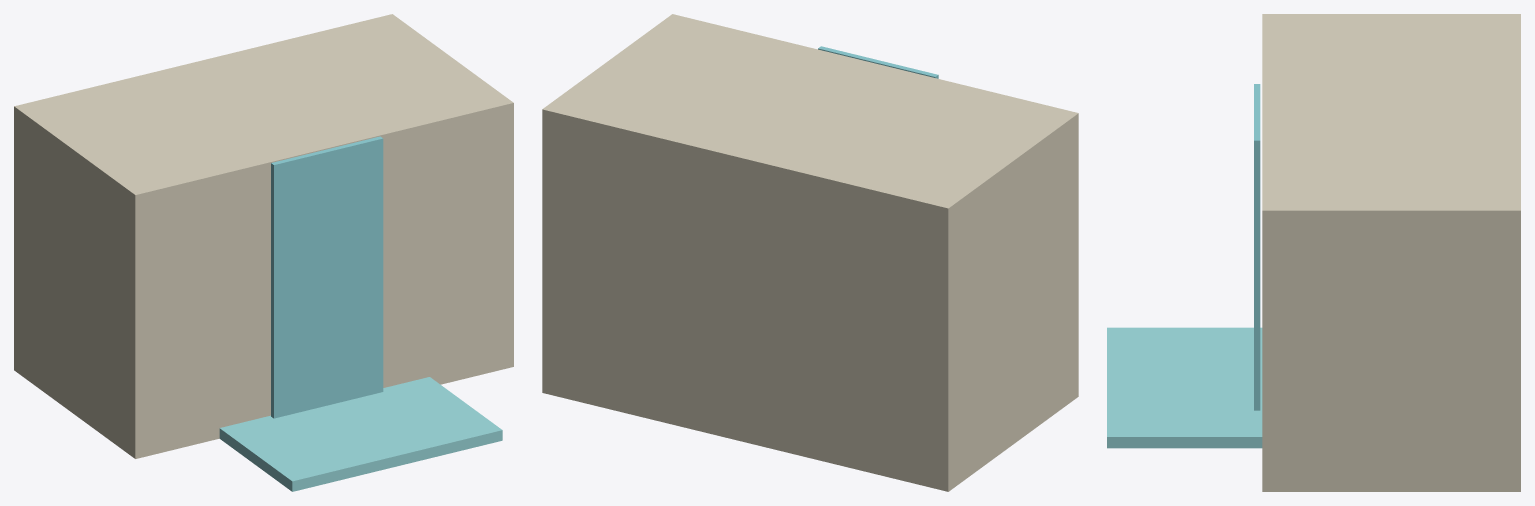
The model's file is waterfall.glb.
3 renders of one model, left to right at view 1: azimuth 30°, elevation 25°; view 2: azimuth 150°, elevation 25°; view 3: azimuth 270°, elevation 25°, orthographic. The views are drawn at different scales.
Size of the model in its own units: 4.5 by 3 by 4.
